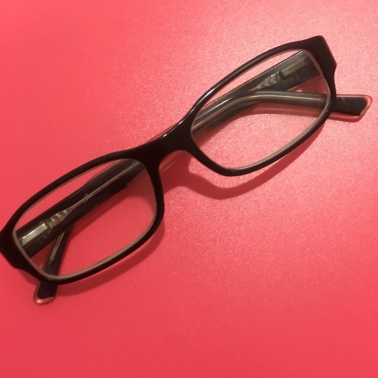glasses: (14, 39, 348, 289)
